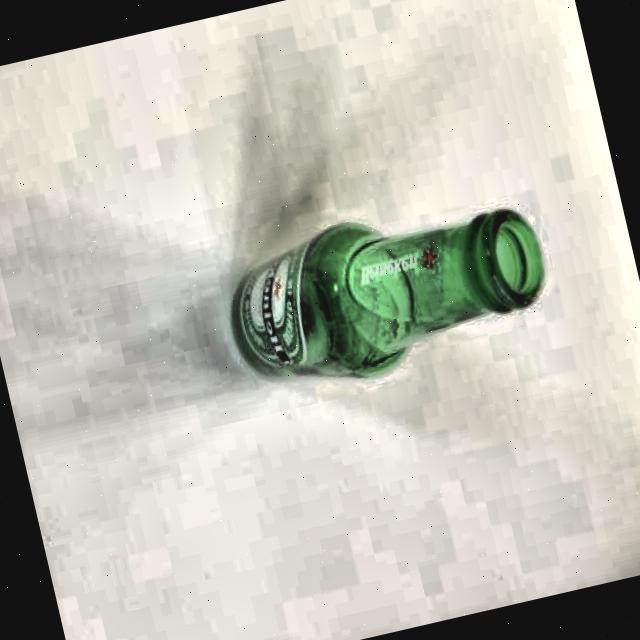glass: (208, 182, 566, 414)
